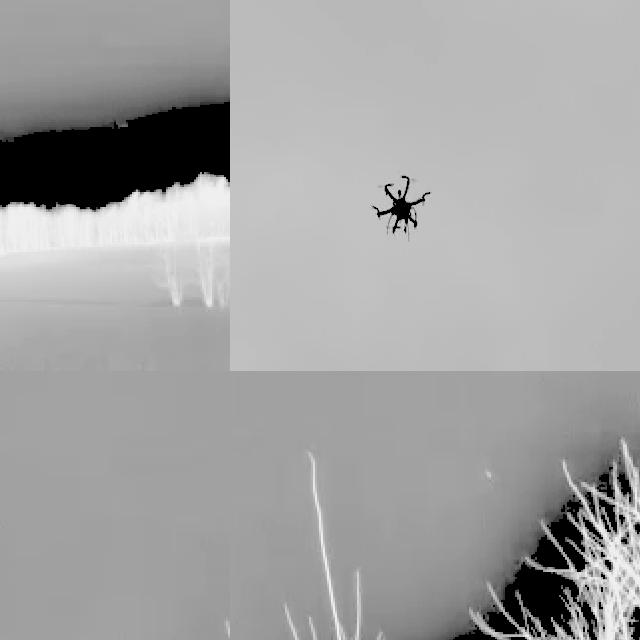0: (473, 463, 503, 496), (105, 114, 137, 144)
drone: (372, 161, 434, 239)
